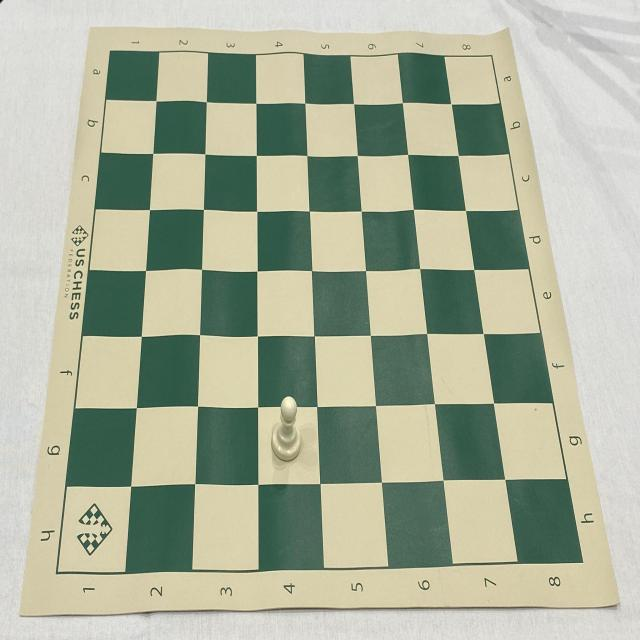white-pawn: (270, 395, 302, 462)
